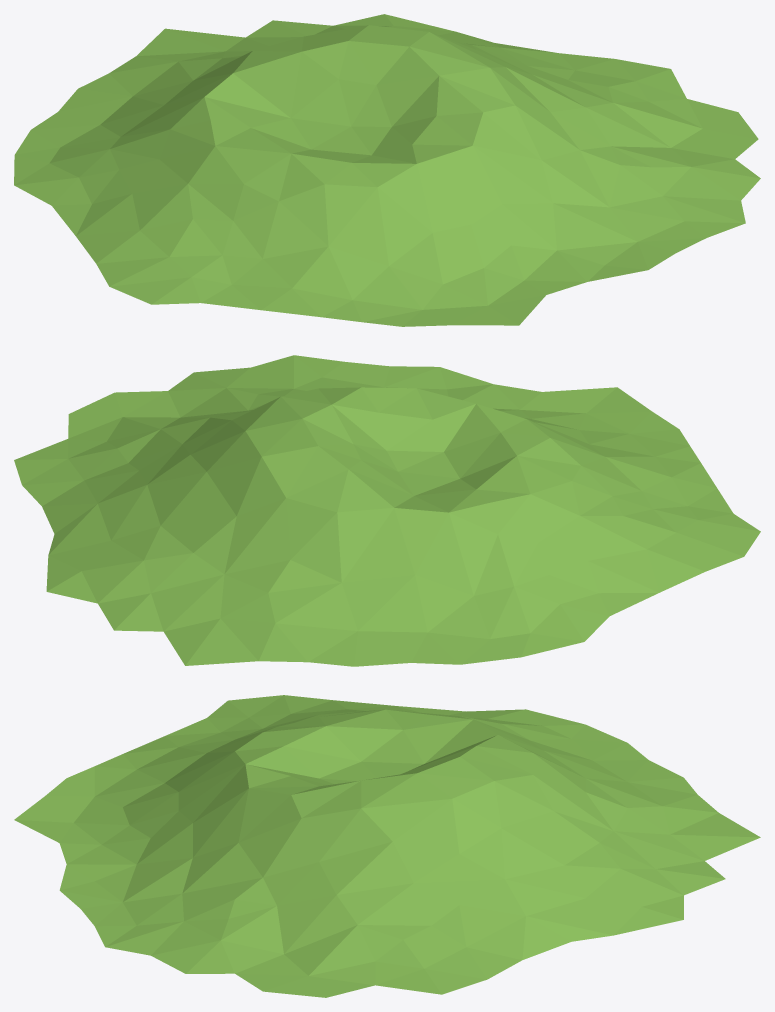
File: MT_Mountain_M_a_12_LOD.fbx
3 views of the same model, one above another, from view 1: azimuth 30°, elevation 25°; view 2: azimuth 150°, elevation 25°; view 3: azimuth 270°, elevation 25° (orthographic). The views are drawn at different scales.
Visible parts, largest first — view 1: MT_Mountain_M_a_12_LOD0; view 2: MT_Mountain_M_a_12_LOD0; view 3: MT_Mountain_M_a_12_LOD0.
Part boxes in pixels (x1=…): MT_Mountain_M_a_12_LOD0: x1=14, y1=14, x2=760, y2=326; MT_Mountain_M_a_12_LOD0: x1=14, y1=355, x2=760, y2=666; MT_Mountain_M_a_12_LOD0: x1=14, y1=695, x2=760, y2=997.
Size of what is drawn, in the model's own units: 3984 by 597 by 4160.
